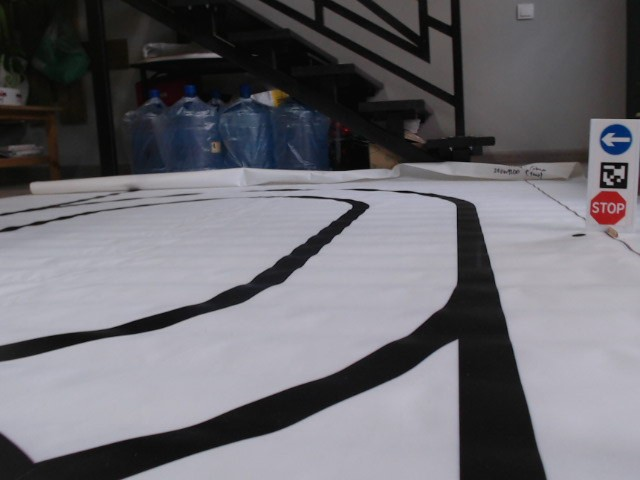Stop: (588, 190, 627, 227)
